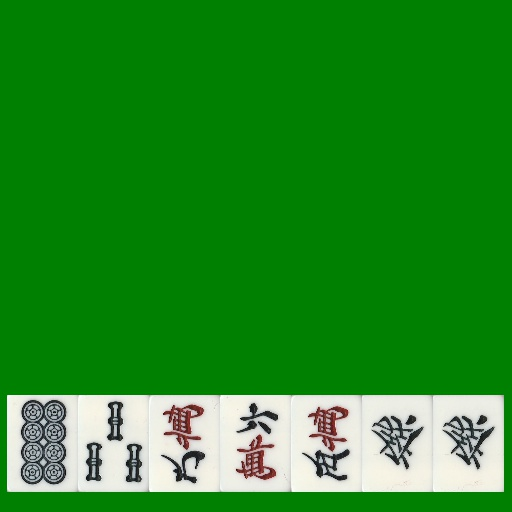3s: (78, 395, 149, 492)
5m: (291, 395, 362, 492)
6m: (220, 395, 291, 492)
8p: (7, 395, 78, 492)
9m: (149, 395, 220, 492)
hatsu: (362, 395, 433, 492), (433, 395, 504, 492)
